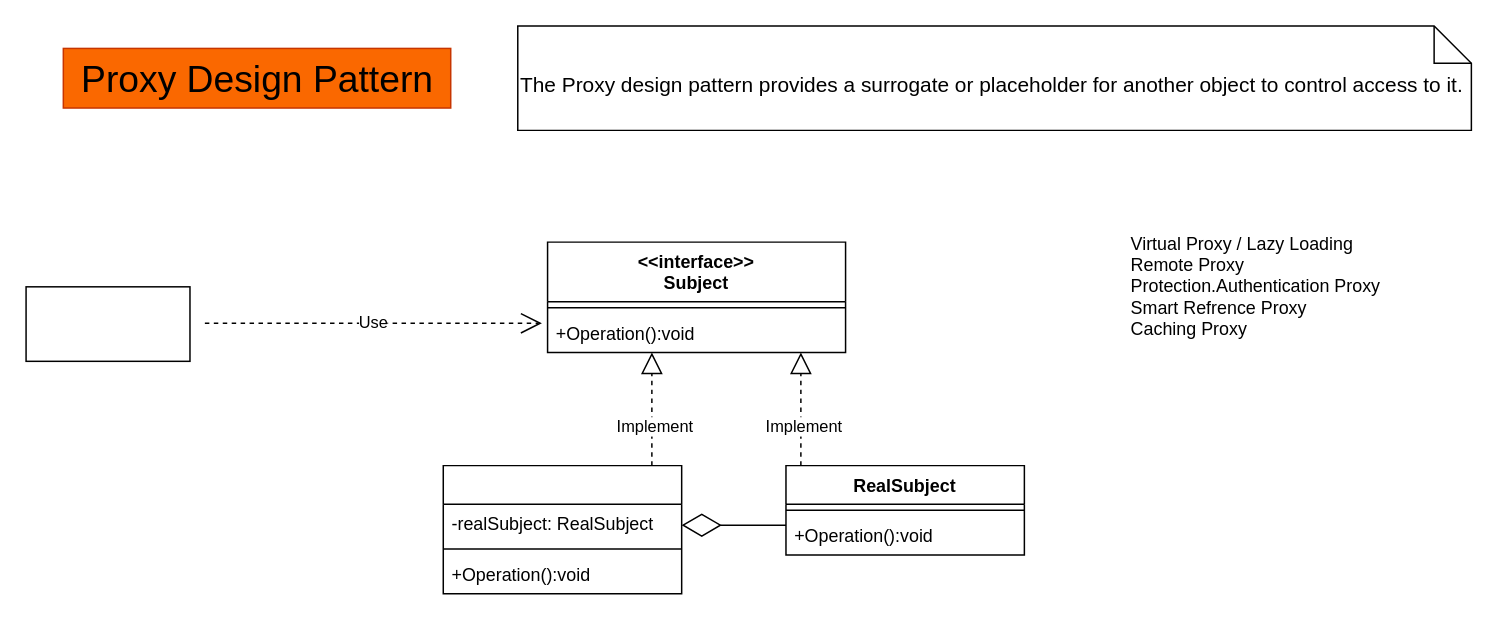
The diagram is 1497 pixels wide and 624 high, and some of its shapes have lost their labels. The shapes that lost their labels are listed below. From the top down, each one's box as (x1, y1, x2, y2) in pixels, then its label:
(25, 285, 190, 361): Client
(442, 464, 682, 594): SubjectProxy
